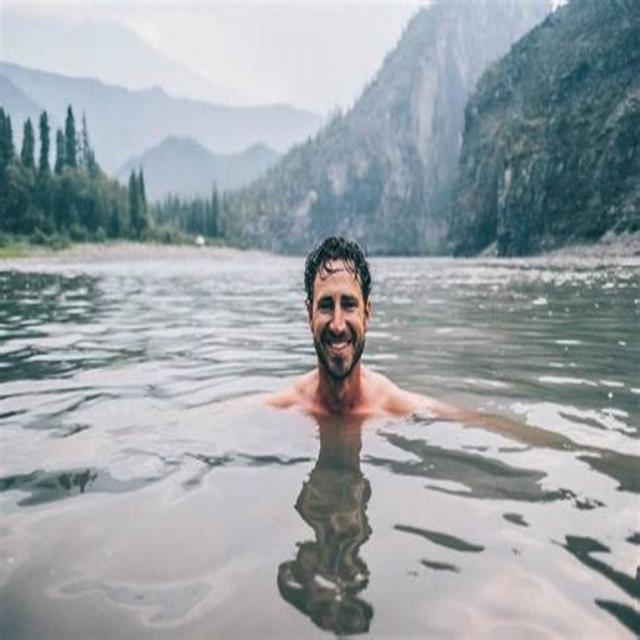swimming: (261, 197, 500, 480)
